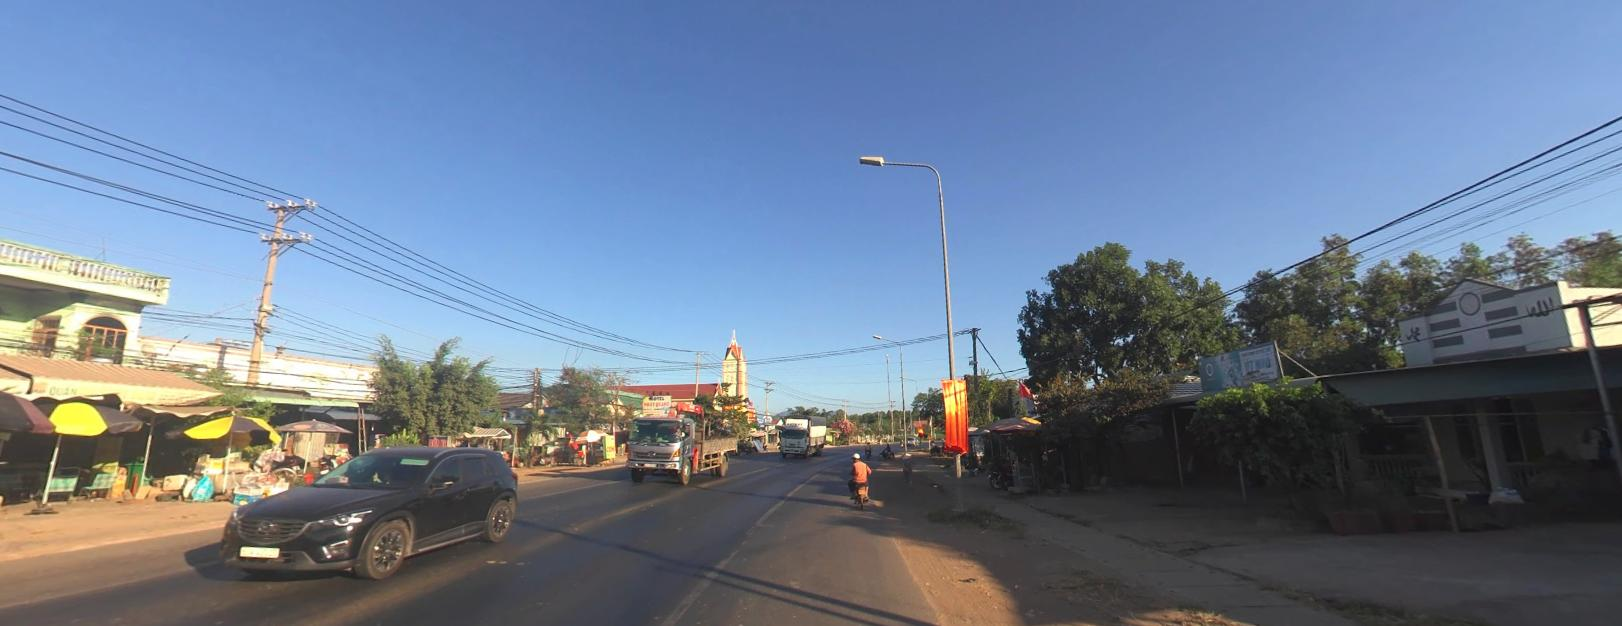Nguy hiem: (926, 433, 932, 438)
